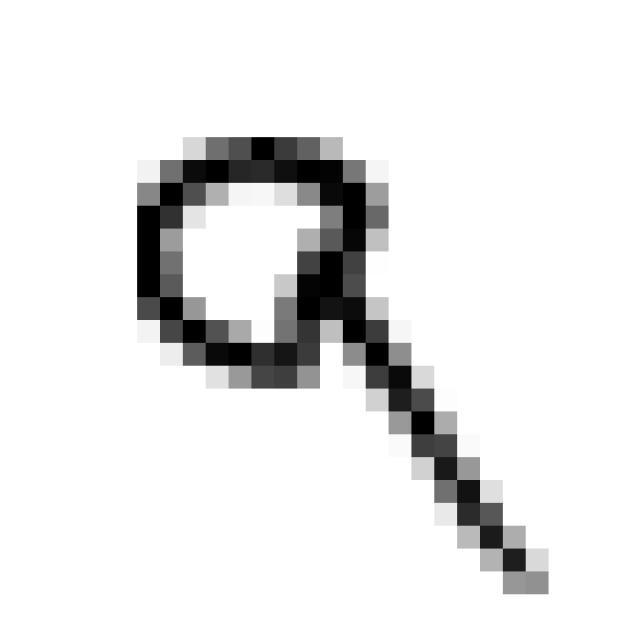9 -nine-: (110, 114, 566, 608)
